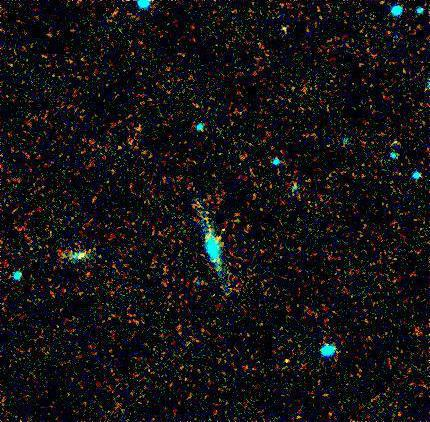star: (208, 212, 238, 242)
